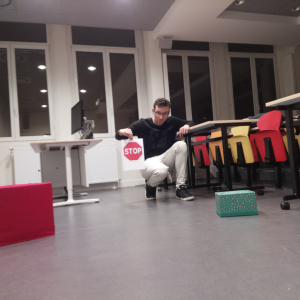stop: (123, 141, 142, 161)
